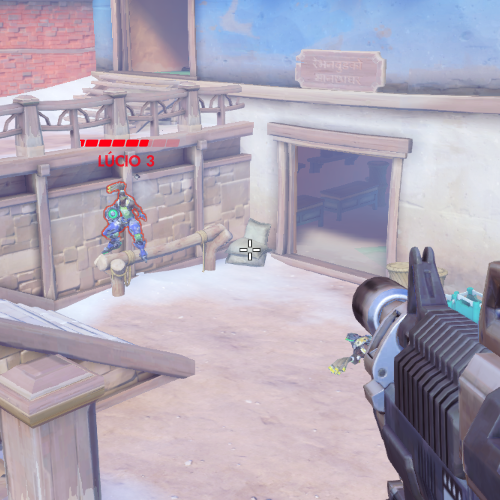hpbar: (79, 138, 181, 148)
